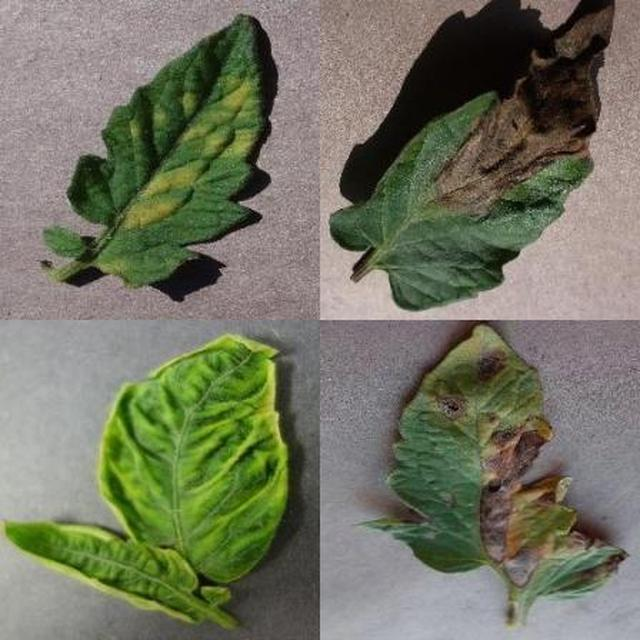Leaf Mold: (206, 214, 640, 640)
